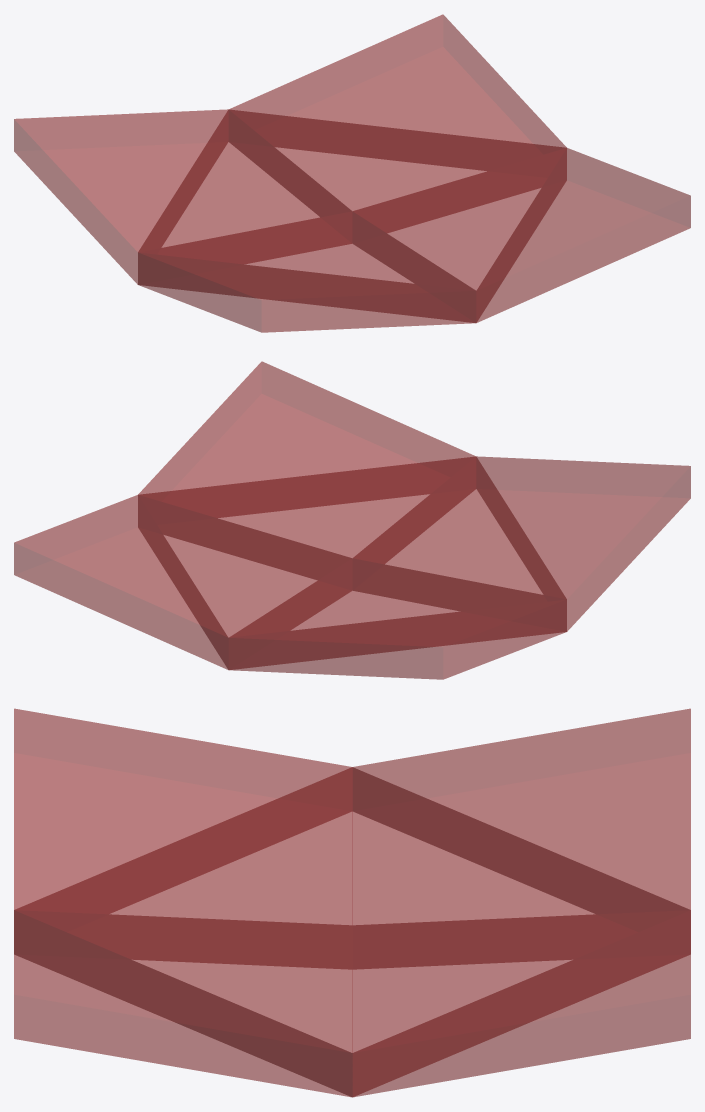
The model's file is SM_Prop_Banner_Roof_01_Collision.fbx.
3 renders of one model, top to bottom at view 1: azimuth 30°, elevation 25°; view 2: azimuth 150°, elevation 25°; view 3: azimuth 270°, elevation 25°, orthographic. The views are drawn at different scales.
Visible parts, largest first — view 1: SM_Prop_Banner_Roof_01_Collision; view 2: SM_Prop_Banner_Roof_01_Collision; view 3: SM_Prop_Banner_Roof_01_Collision.
Boxes of the visible parts, x1=… form: SM_Prop_Banner_Roof_01_Collision: x1=14, y1=14, x2=690, y2=332; SM_Prop_Banner_Roof_01_Collision: x1=14, y1=361, x2=690, y2=679; SM_Prop_Banner_Roof_01_Collision: x1=14, y1=708, x2=690, y2=1097.
Bounding box in the file's own units: 250 × 48.14 × 250.
